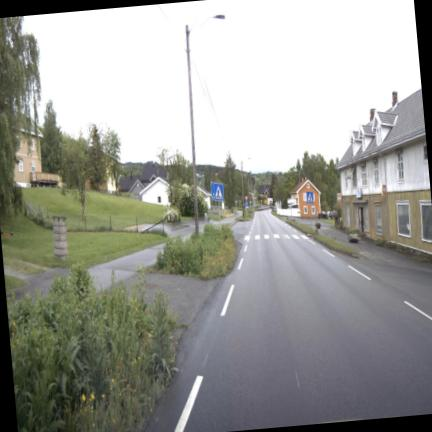Road: (145, 212, 431, 431)
